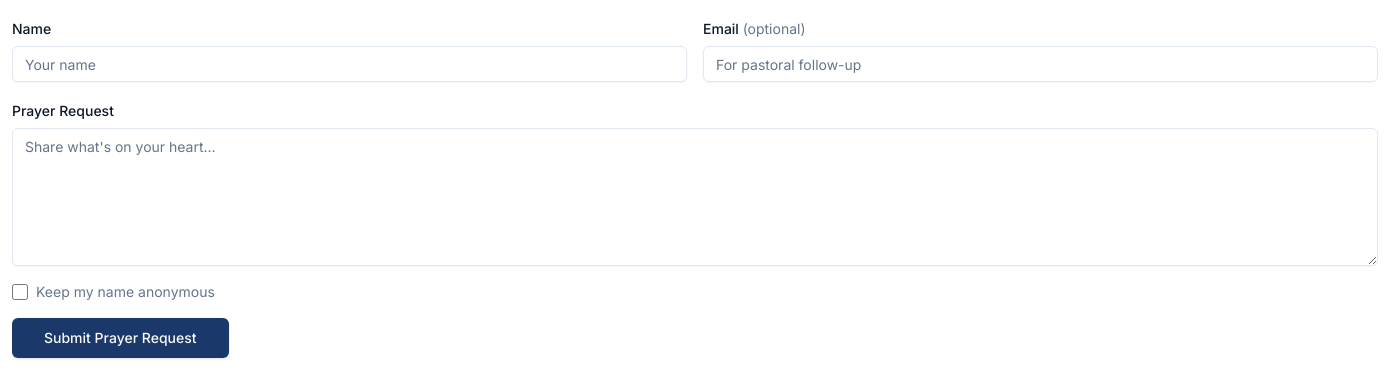
PrayerRequestForm › success state › shows "Prayer Request Received" after a successful submission
In the field labelled "Name": {"x": 350, "y": 64} [12,46,687,82], type "John"
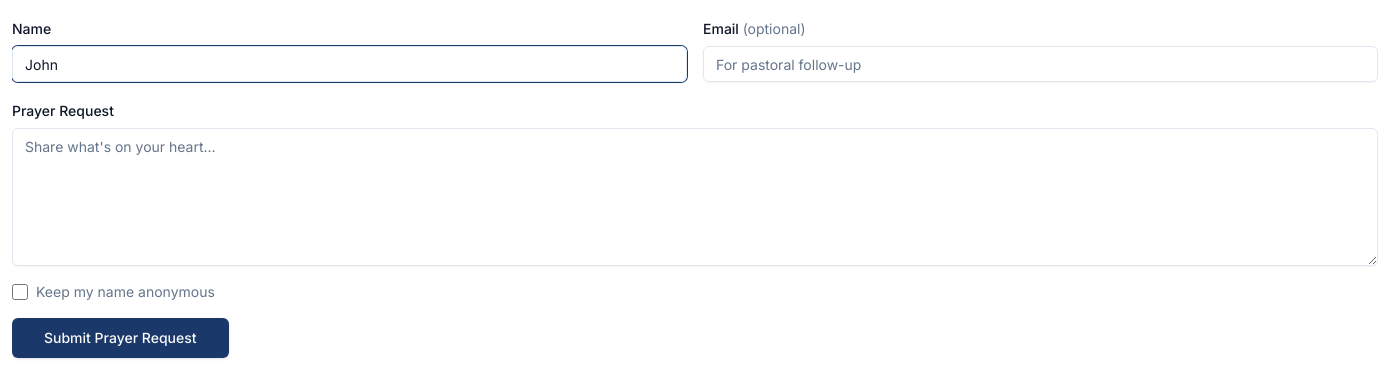
In the text box labelled "Prayer Request": {"x": 695, "y": 197} [12,128,1378,266], type "Please pray for my family."
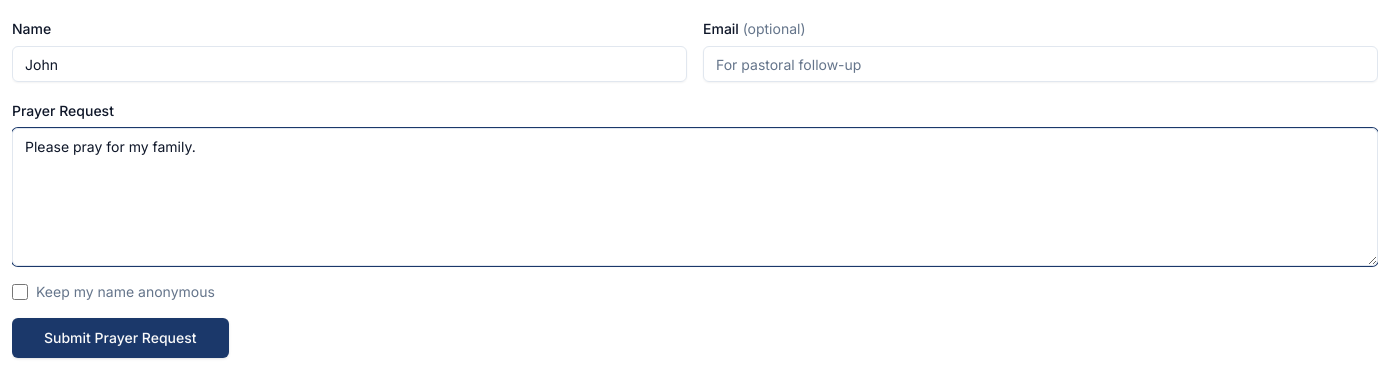
Click the button "Submit Prayer Request": {"x": 120, "y": 338} [12,318,228,358]
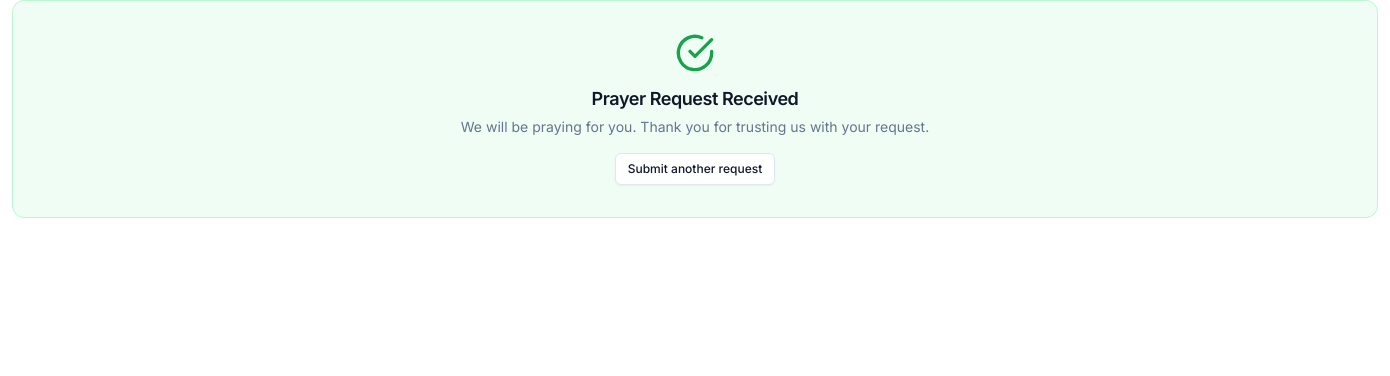
Now the heading "Prayer Request Received" is shown, box [592,85,798,113]
